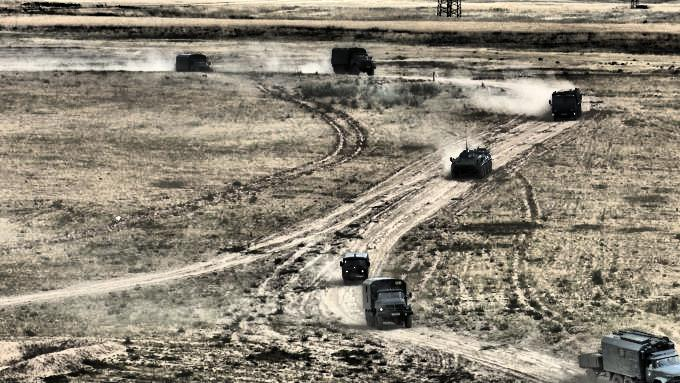military-vehicle: (359, 279, 414, 332), (450, 147, 491, 181), (331, 46, 376, 74), (549, 87, 584, 121), (340, 251, 373, 286), (175, 54, 214, 73)
